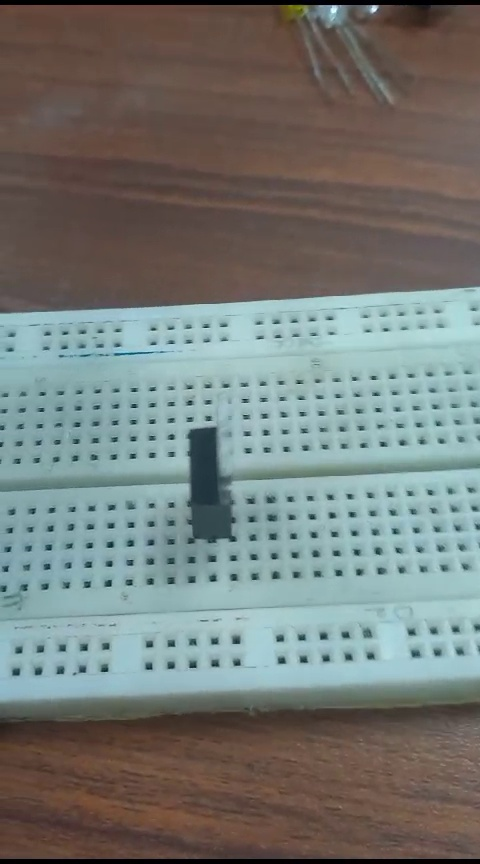voltage regulator: (177, 388, 245, 573)
